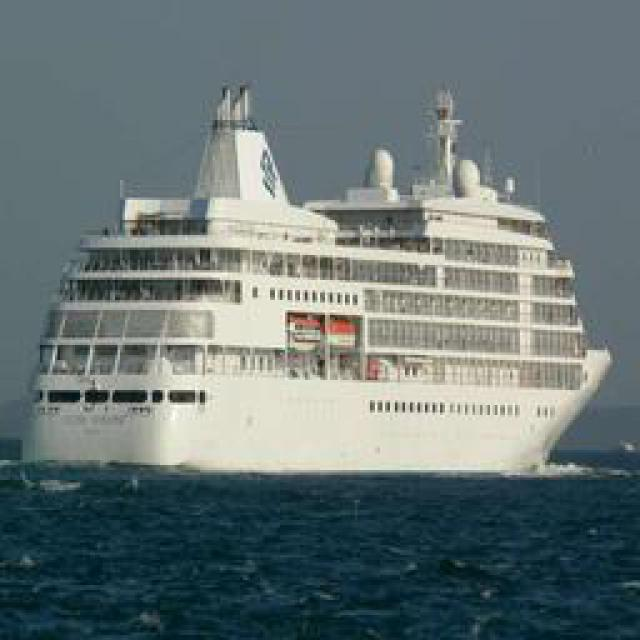Ship: (17, 78, 627, 476)
